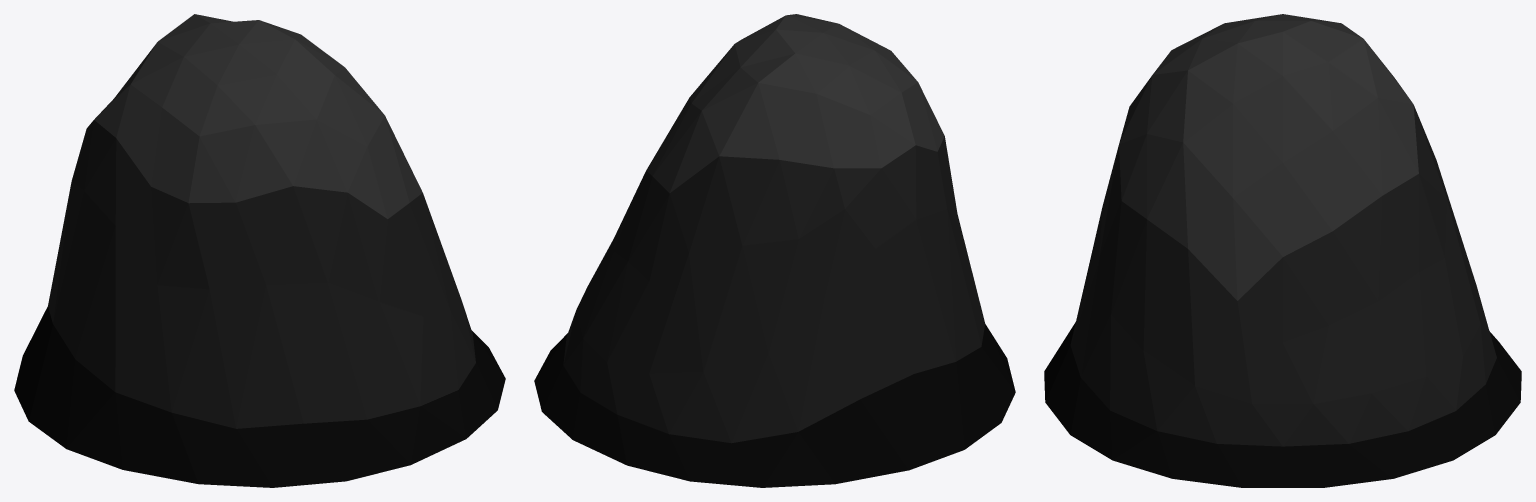
Rendered from basura 2.fbx.
3 renders of one model, left to right at view 1: azimuth 30°, elevation 25°; view 2: azimuth 150°, elevation 25°; view 3: azimuth 270°, elevation 25°, orthographic. The views are drawn at different scales.
Parts seen in each view (by area): view 1: Basura2; view 2: Basura2; view 3: Basura2.
Boxes of the visible parts, x1=… form: Basura2: x1=14, y1=14, x2=505, y2=487; Basura2: x1=534, y1=14, x2=1015, y2=487; Basura2: x1=1044, y1=14, x2=1521, y2=487.
Size of the model in its own units: 856 by 707 by 859.
Materials: 1 (1 with a texture image).
